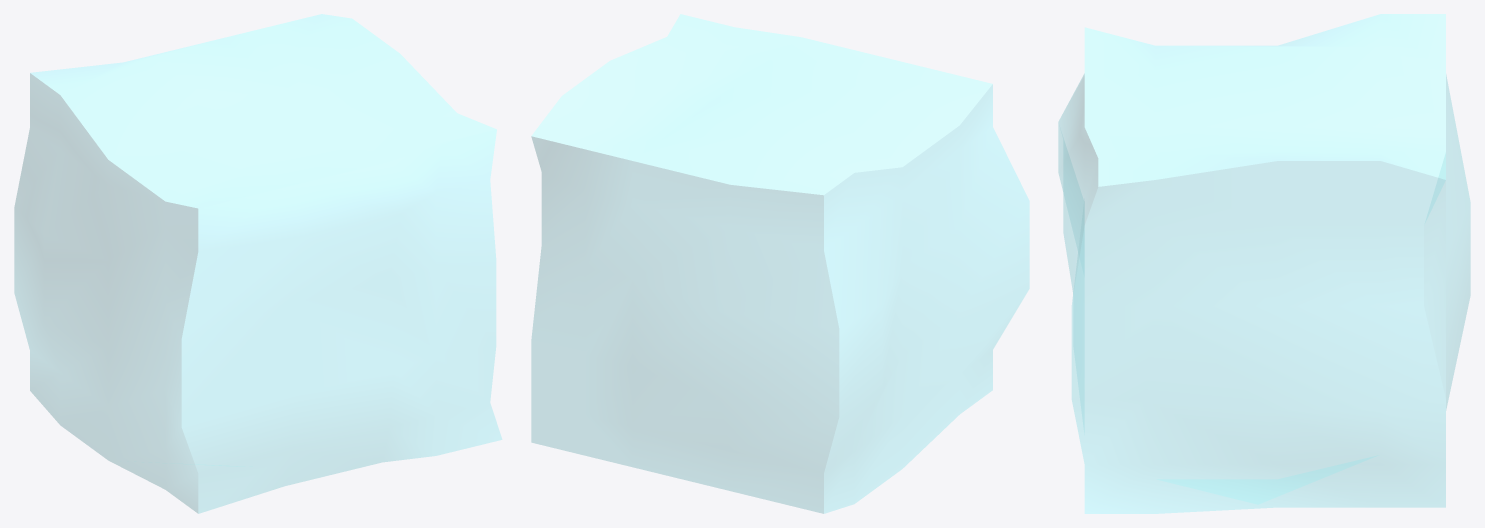
File: cuboe.gltf
3 renders of one model, left to right at view 1: azimuth 30°, elevation 25°; view 2: azimuth 150°, elevation 25°; view 3: azimuth 270°, elevation 25°, orthographic. The views are drawn at different scales.
Visible parts, largest first — view 1: pCube1; view 2: pCube1; view 3: pCube1.
Part boxes in pixels (x1,y1,x2,y2): pCube1: (14, 14, 502, 513); pCube1: (531, 14, 1029, 513); pCube1: (1058, 14, 1470, 513).
Size of the model in its own units: 1.97 by 2.06 by 1.94.
